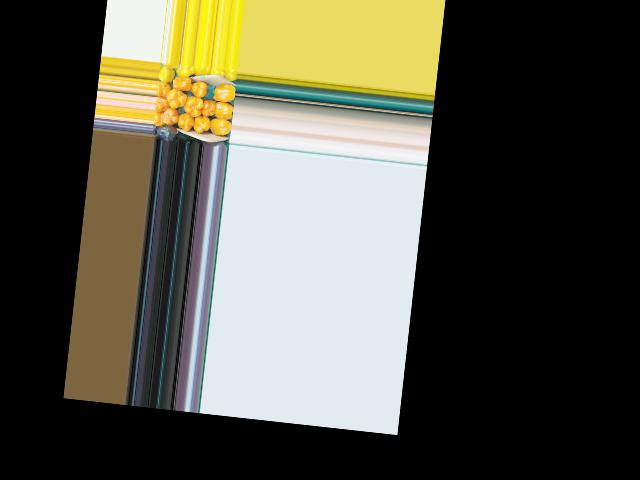bell_pepper: (175, 65, 197, 77)
